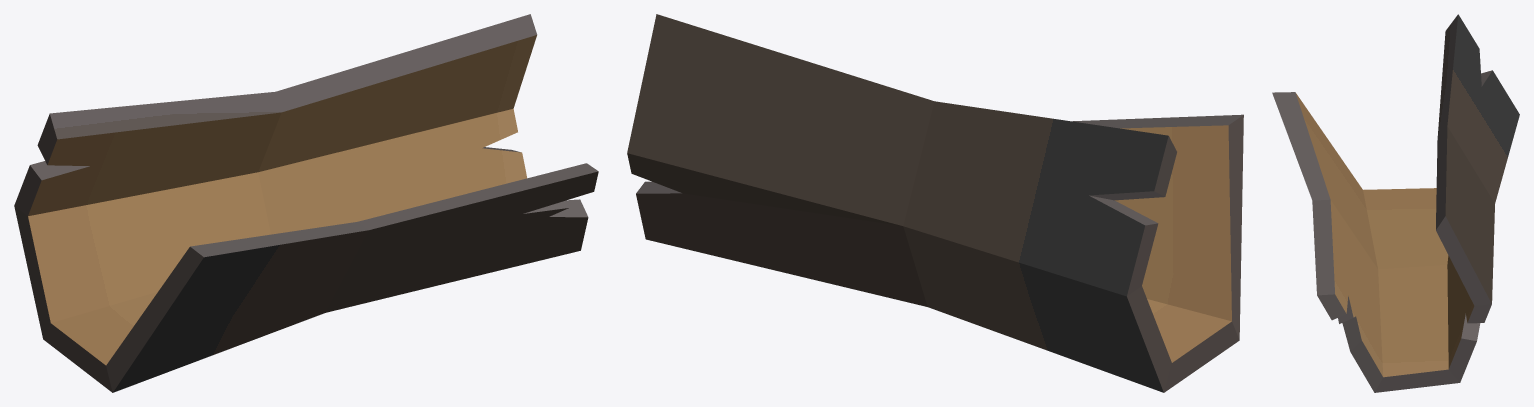
Rendered from OakClutter.fbx.
3 views of the same model, side by side, from view 1: azimuth 30°, elevation 25°; view 2: azimuth 150°, elevation 25°; view 3: azimuth 270°, elevation 25° (orthographic). The views are drawn at different scales.
Parts seen in each view (by area): view 1: OakClutter; view 2: OakClutter; view 3: OakClutter.
Part boxes in pixels (bbox=[...]): OakClutter: bbox=[14, 14, 598, 392]; OakClutter: bbox=[627, 14, 1243, 392]; OakClutter: bbox=[1272, 14, 1519, 392].
Size of the model in its own units: 5.1 by 2.35 by 2.71.
